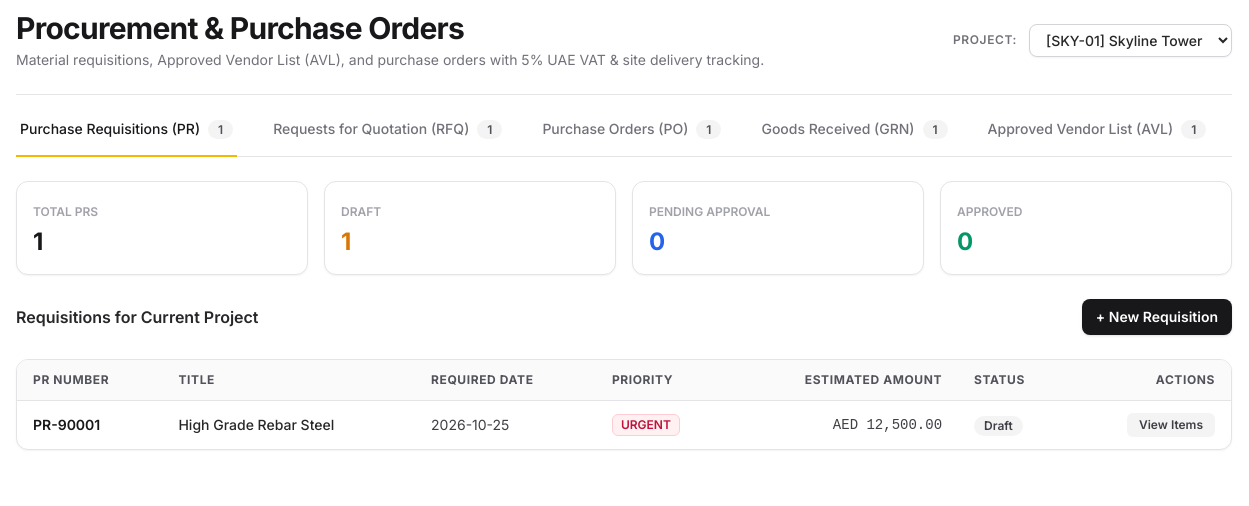
Test: ProcurementPage › switches to AVL tab and displays approved vendors
Click the button "Approved Vendor List (AVL)1" at (1097, 138), box [984,119,1210,157]
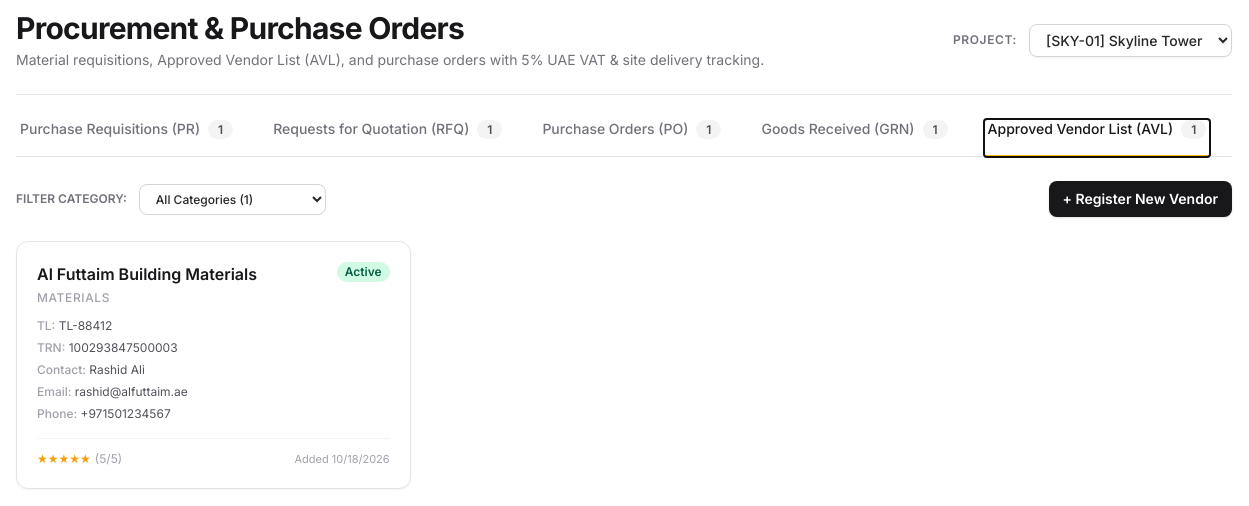
Result: the heading "Al Futtaim Building Materials" is shown at [37,262,257,286]
Result: the button "+ Register New Vendor" is shown at [1048,181,1232,217]
Result: the text "TL-88412" is shown at [59,318,112,333]
